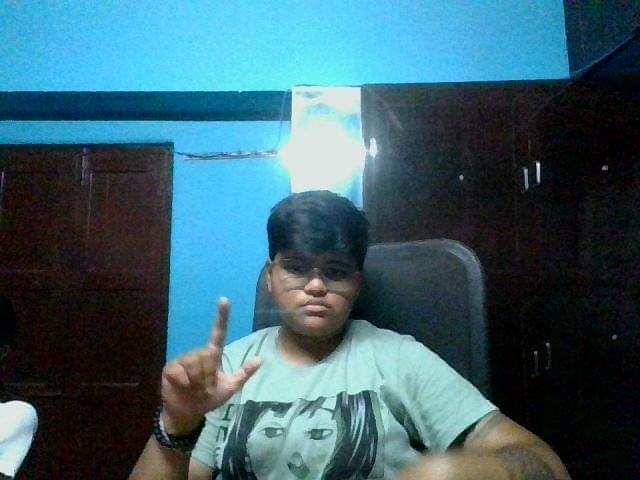L: (156, 294, 263, 425)
